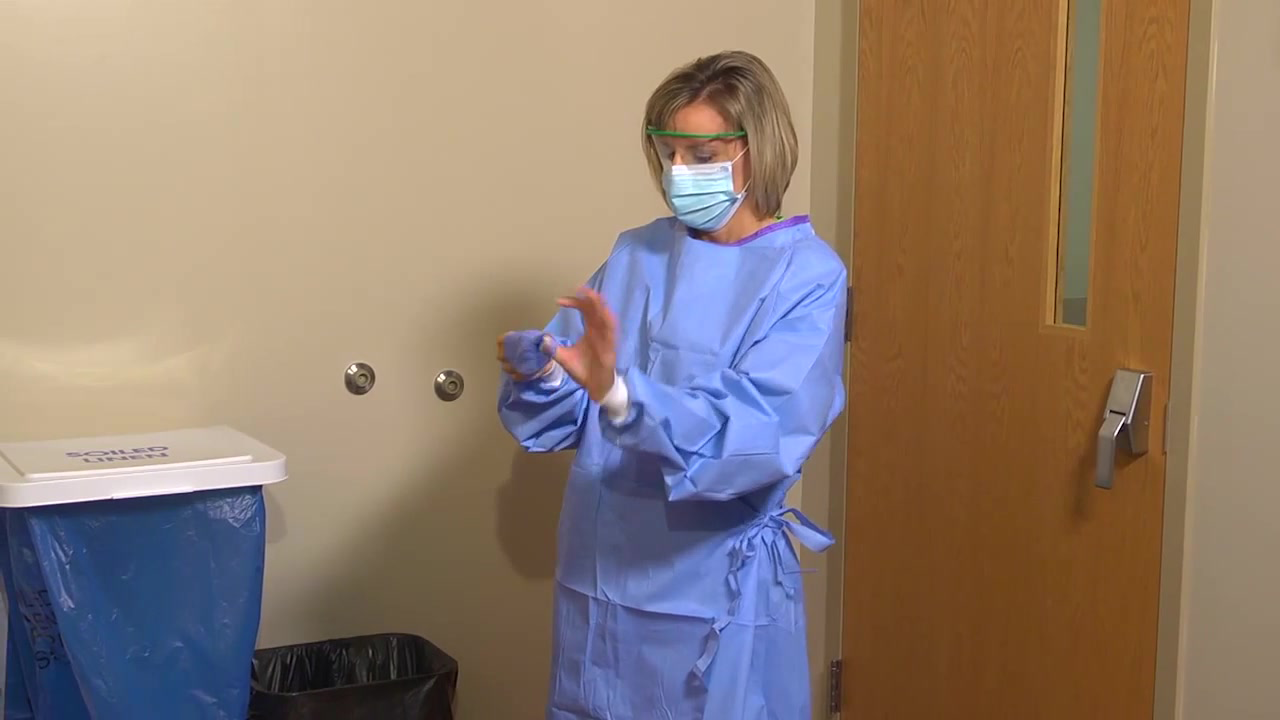Coverall: (542, 226, 833, 720)
Face_Shield: (628, 114, 767, 230)
with_mask: (655, 156, 754, 226)
